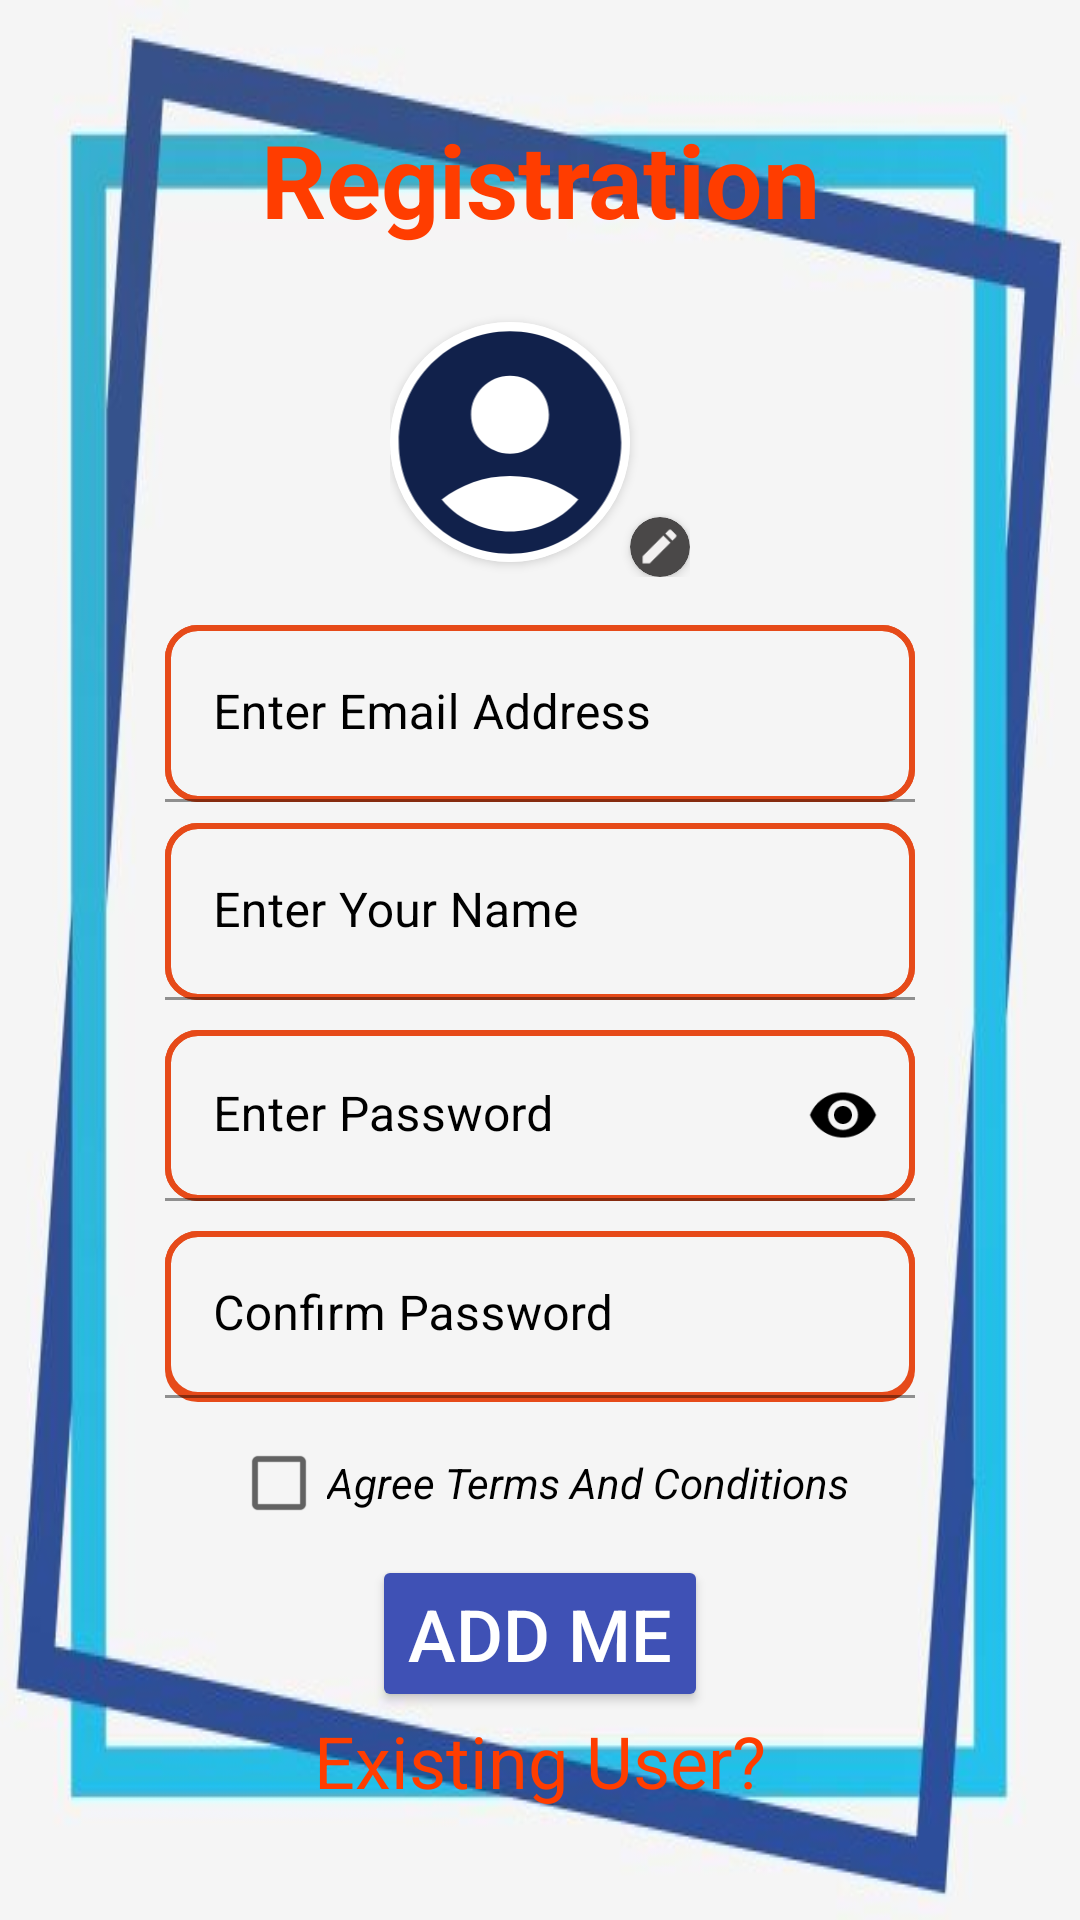

Point at icon controls on the screen. Image size 1080px×1920px, points as [x,y].
edit: [659,546]
